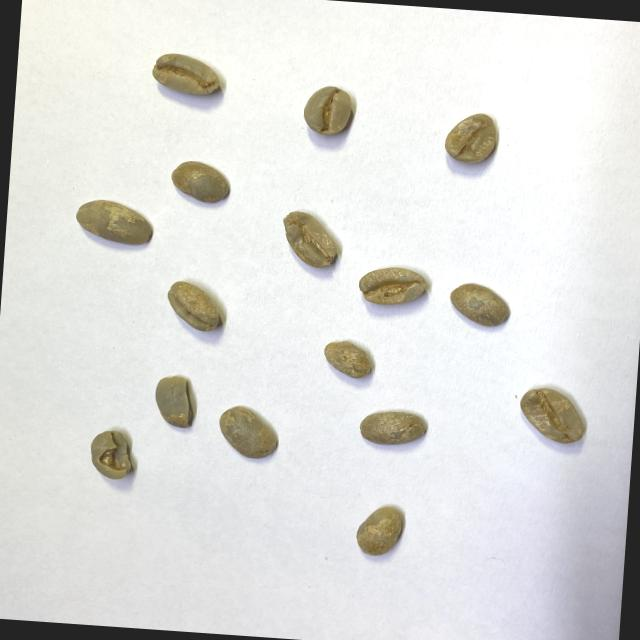bad: (279, 209, 342, 272), (356, 263, 429, 310), (86, 426, 135, 482), (151, 372, 195, 429)
good: (516, 385, 590, 446), (74, 196, 156, 246), (216, 402, 280, 462), (151, 49, 227, 99), (441, 109, 502, 168), (300, 82, 358, 140), (168, 157, 234, 205), (447, 280, 513, 327), (164, 280, 223, 332), (356, 407, 428, 449), (355, 502, 407, 558), (320, 337, 374, 382)
